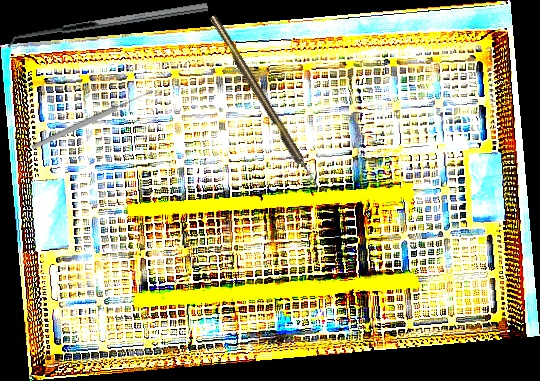Hook Surgical: (208, 13, 320, 190)
Spatula Surgical: (6, 2, 210, 51)
Surgical Spoon: (30, 88, 155, 151)
